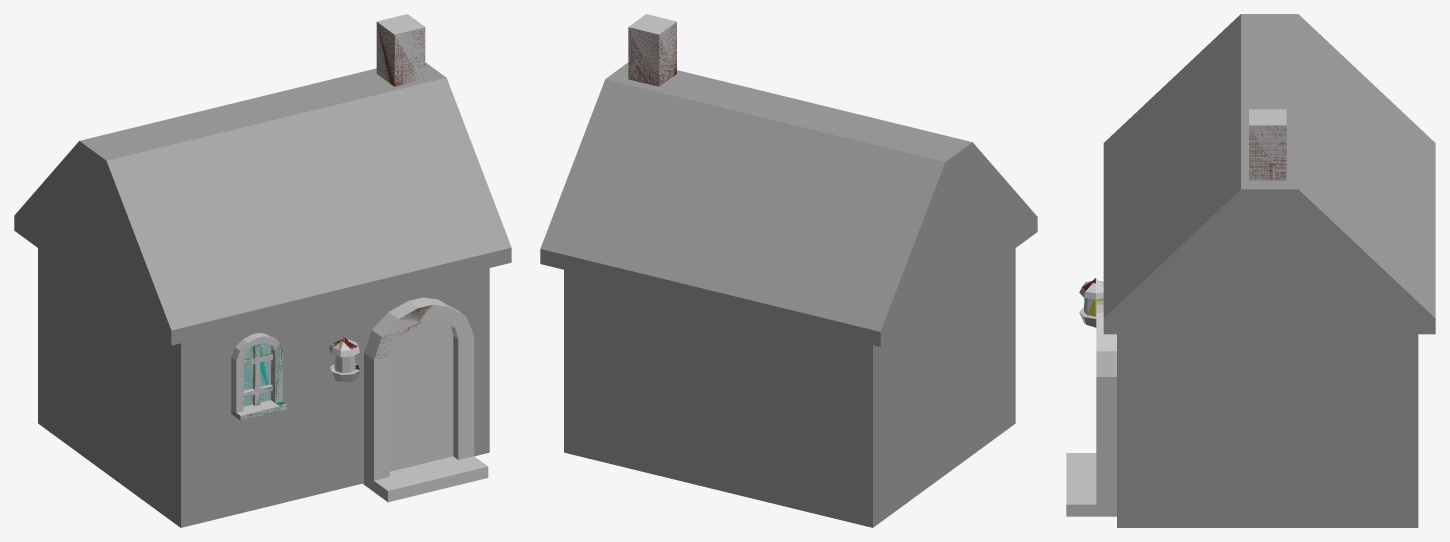
Rendered from tiny_house.obj.
3 renders of one model, left to right at view 1: azimuth 30°, elevation 25°; view 2: azimuth 150°, elevation 25°; view 3: azimuth 270°, elevation 25°, orthographic. The views are drawn at different scales.
Parts seen in each view (by area): view 1: Cube, Cube.002, Cube.006_Cube.007, Cube.003, Cube.001, SmallHouse_Cube.013, Cube.004_Cube.005, Cube.005_Cube.006; view 2: Cube, Cube.001, SmallHouse_Cube.013; view 3: Cube, Cube.002, Cube.001, SmallHouse_Cube.013, Cube.004_Cube.005.
Part boxes in pixels (<box>): Cube: <box>14,62,511,527</box>; Cube.002: <box>363,297,488,502</box>; Cube.006_Cube.007: <box>389,319,453,471</box>; Cube.003: <box>231,333,286,420</box>; Cube.001: <box>376,14,425,86</box>; SmallHouse_Cube.013: <box>231,22,431,420</box>; Cube.004_Cube.005: <box>329,336,360,382</box>; Cube.005_Cube.006: <box>243,344,272,405</box>; Cube: <box>540,62,1037,527</box>; Cube.001: <box>628,14,676,86</box>; SmallHouse_Cube.013: <box>628,24,676,86</box>; Cube: <box>1103,14,1435,527</box>; Cube.002: <box>1066,301,1116,516</box>; Cube.001: <box>1249,109,1286,180</box>; SmallHouse_Cube.013: <box>1082,126,1286,325</box>; Cube.004_Cube.005: <box>1079,278,1103,327</box>.
Size of the model in its own units: 10.79 by 11.58 by 9.6.
Materials: 3 (1 with a texture image).
